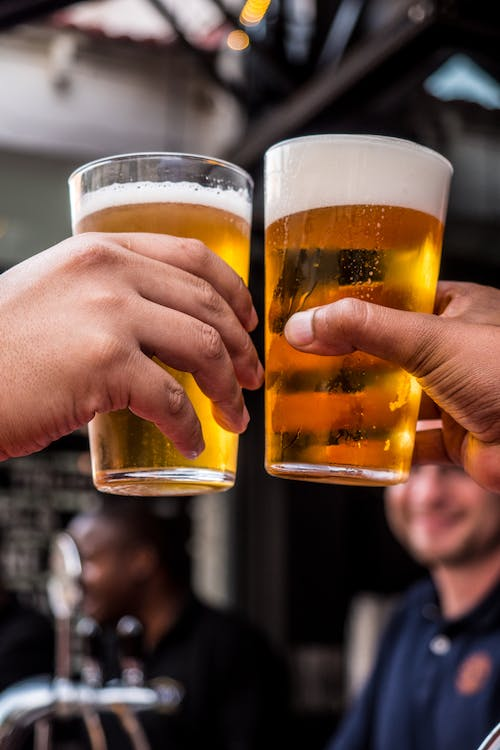alcohol: (261, 132, 455, 490), (64, 150, 256, 498)
